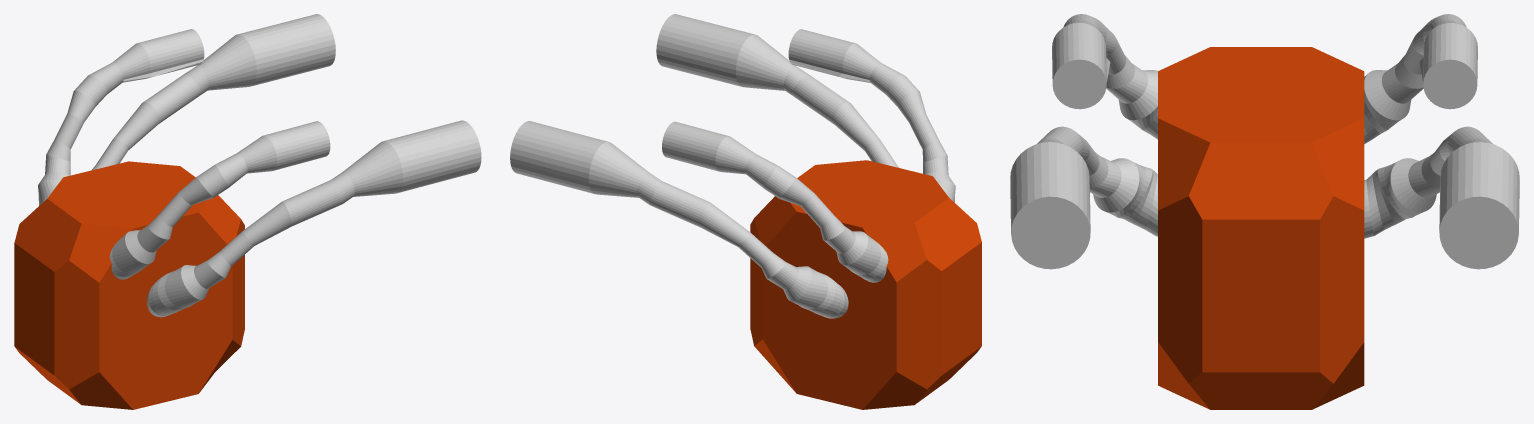
Rendered from engine-tier2.fbx.
3 renders of one model, left to right at view 1: azimuth 30°, elevation 25°; view 2: azimuth 150°, elevation 25°; view 3: azimuth 270°, elevation 25°, orthographic. The views are drawn at different scales.
Visible parts, largest first — view 1: Cylinder.000; view 2: Cylinder.000; view 3: Cylinder.000.
Part boxes in pixels (x1,y1,x2,y2): Cylinder.000: [14, 14, 481, 409]; Cylinder.000: [510, 14, 981, 409]; Cylinder.000: [1010, 14, 1519, 409].
Bounding box in the file's own units: 2144 × 1514 × 1772.
